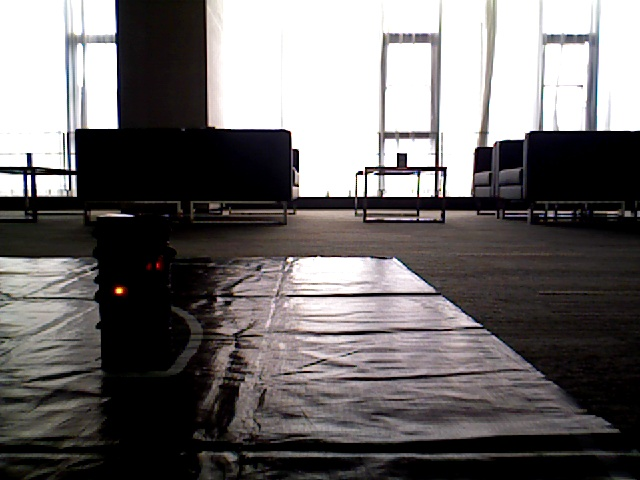yellow: (94, 221, 148, 338)
